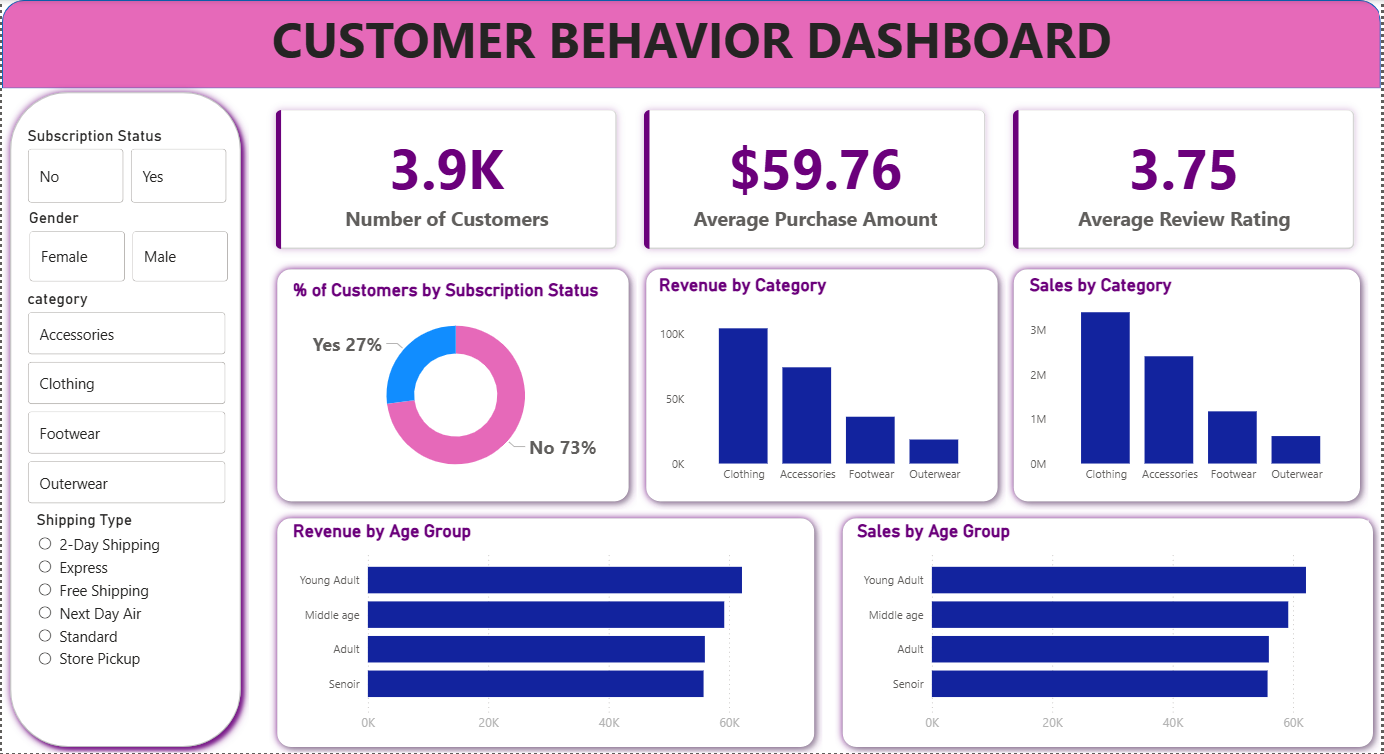

The page's visual inventory and layout, read from the dashboard file:
{"tool":"powerbi","page":{"name":"Page 1","canvas":[1500,820],"ordinal":0},"visuals":[{"type":"cardVisual","fields":{"Data":["customer_behavior customer.Number of Customers","customer_behavior customer.Average Purchase Amount","customer_behavior customer.Average Review Rating"]},"box":[268.6,90.8,1231.9,207.5],"z":0},{"type":"shape","box":[0,0,1500.5,96.3],"z":1000},{"type":"textbox","box":[68.5,0,1363.4,96.3],"z":2000},{"type":"shape","box":[290.8,283.4,400.1,270.5],"z":3000},{"type":"donutChart","title":"% of Customers by Subscription Status","fields":{"Category":["customer_behavior customer.subscription_status"],"Y":["CountNonNull(customer_behavior customer.customer_id)"]},"box":[311.2,303.8,363.1,229.7],"z":4000},{"type":"shape","box":[691,283.4,400.1,270.5],"z":5000},{"type":"shape","box":[1091.1,283.4,394.6,270.5],"z":6000},{"type":"clusteredColumnChart","title":"Revenue by Category","fields":{"Y":["Sum(customer_behavior customer.purchase_amount)"],"Category":["customer_behavior customer.category"]},"box":[709.5,298.2,364.9,235.3],"z":7000},{"type":"clusteredColumnChart","title":"Sales by Category","fields":{"Y":["Sum(customer_behavior customer.customer_id)"],"Category":["customer_behavior customer.category"]},"box":[1113.3,298.2,355.7,235.3],"z":8000},{"type":"shape","box":[0,90.8,268.6,729.9],"z":9000},{"type":"advancedSlicerVisual","fields":{"Values":["customer_behavior customer.subscription_status"]},"box":[22.2,137.1,227.9,88.9],"z":10000},{"type":"advancedSlicerVisual","fields":{"Values":["customer_behavior customer.gender"]},"box":[24.1,226,227.9,85.2],"z":11000},{"type":"advancedSlicerVisual","fields":{"Values":["customer_behavior customer.category"]},"box":[22.2,314.9,226,239],"z":12000},{"type":"listSlicer","fields":{"Values":["customer_behavior customer.shipping_type"]},"box":[33.3,553.9,209.3,235.3],"z":13000},{"type":"shape","box":[290.8,553.9,602,266.8],"z":14000},{"type":"clusteredBarChart","title":"Revenue by Age Group","fields":{"Category":["customer_behavior customer.age_group"],"Y":["Sum(customer_behavior customer.purchase_amount)"]},"box":[311.2,566.9,561.3,239],"z":15000},{"type":"shape","box":[905.8,553.9,594.6,266.8],"z":15001},{"type":"clusteredBarChart","title":"Sales by Age Group","fields":{"Category":["customer_behavior customer.age_group"],"Y":["Sum(customer_behavior customer.purchase_amount)"]},"box":[924.4,566.9,561.3,239],"z":15002}]}

Visuals, with their boxes in screenshot pixels (x1, y1, x2, y2), scaled from the page's 1500x820 canvas onto the 1384x754 screenshot:
cardVisual - customer_behavior customer.Number of Customers x customer_behavior customer.Average Purchase Amount: (248, 83, 1383, 274)
shape: (0, 0, 1383, 89)
textbox: (63, 0, 1321, 89)
shape: (268, 261, 637, 509)
"% of Customers by Subscription Status" donutChart: (287, 279, 622, 491)
shape: (638, 261, 1007, 509)
shape: (1007, 261, 1371, 509)
"Revenue by Category" clusteredColumnChart: (655, 274, 991, 491)
"Sales by Category" clusteredColumnChart: (1027, 274, 1355, 491)
shape: (0, 83, 248, 753)
advancedSlicerVisual - customer_behavior customer.subscription_status: (20, 126, 231, 208)
advancedSlicerVisual - customer_behavior customer.gender: (22, 208, 233, 286)
advancedSlicerVisual - customer_behavior customer.category: (20, 290, 229, 509)
listSlicer - customer_behavior customer.shipping_type: (31, 509, 224, 726)
shape: (268, 509, 824, 753)
"Revenue by Age Group" clusteredBarChart: (287, 521, 805, 741)
shape: (836, 509, 1383, 753)
"Sales by Age Group" clusteredBarChart: (853, 521, 1371, 741)
